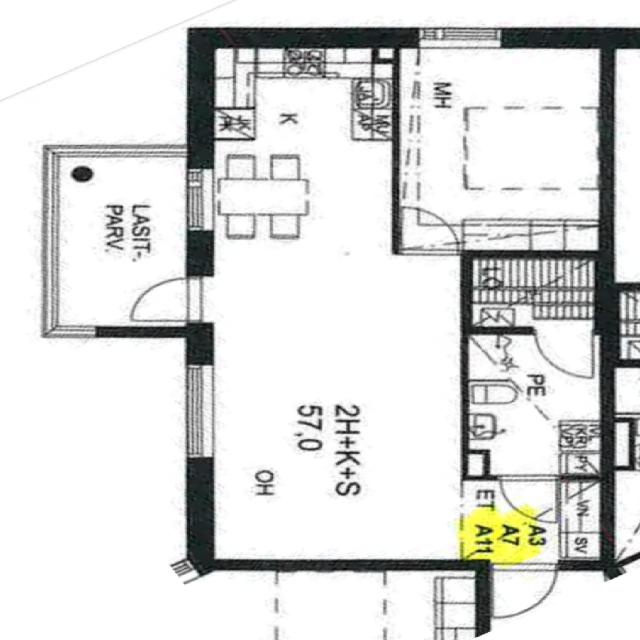door: (492, 560, 556, 617), (131, 279, 214, 321), (534, 326, 592, 376), (500, 475, 556, 522), (402, 210, 458, 256)
